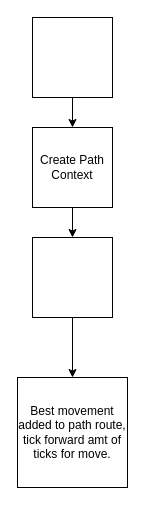
Image size: 145x505. Some labels were removed from this diagram. The centre of each missing label's shape, as x and y in pixels:
"Calculate movements based on current path position" belongs at point (72, 277).
"Pathfinding Plan" belongs at point (72, 57).
